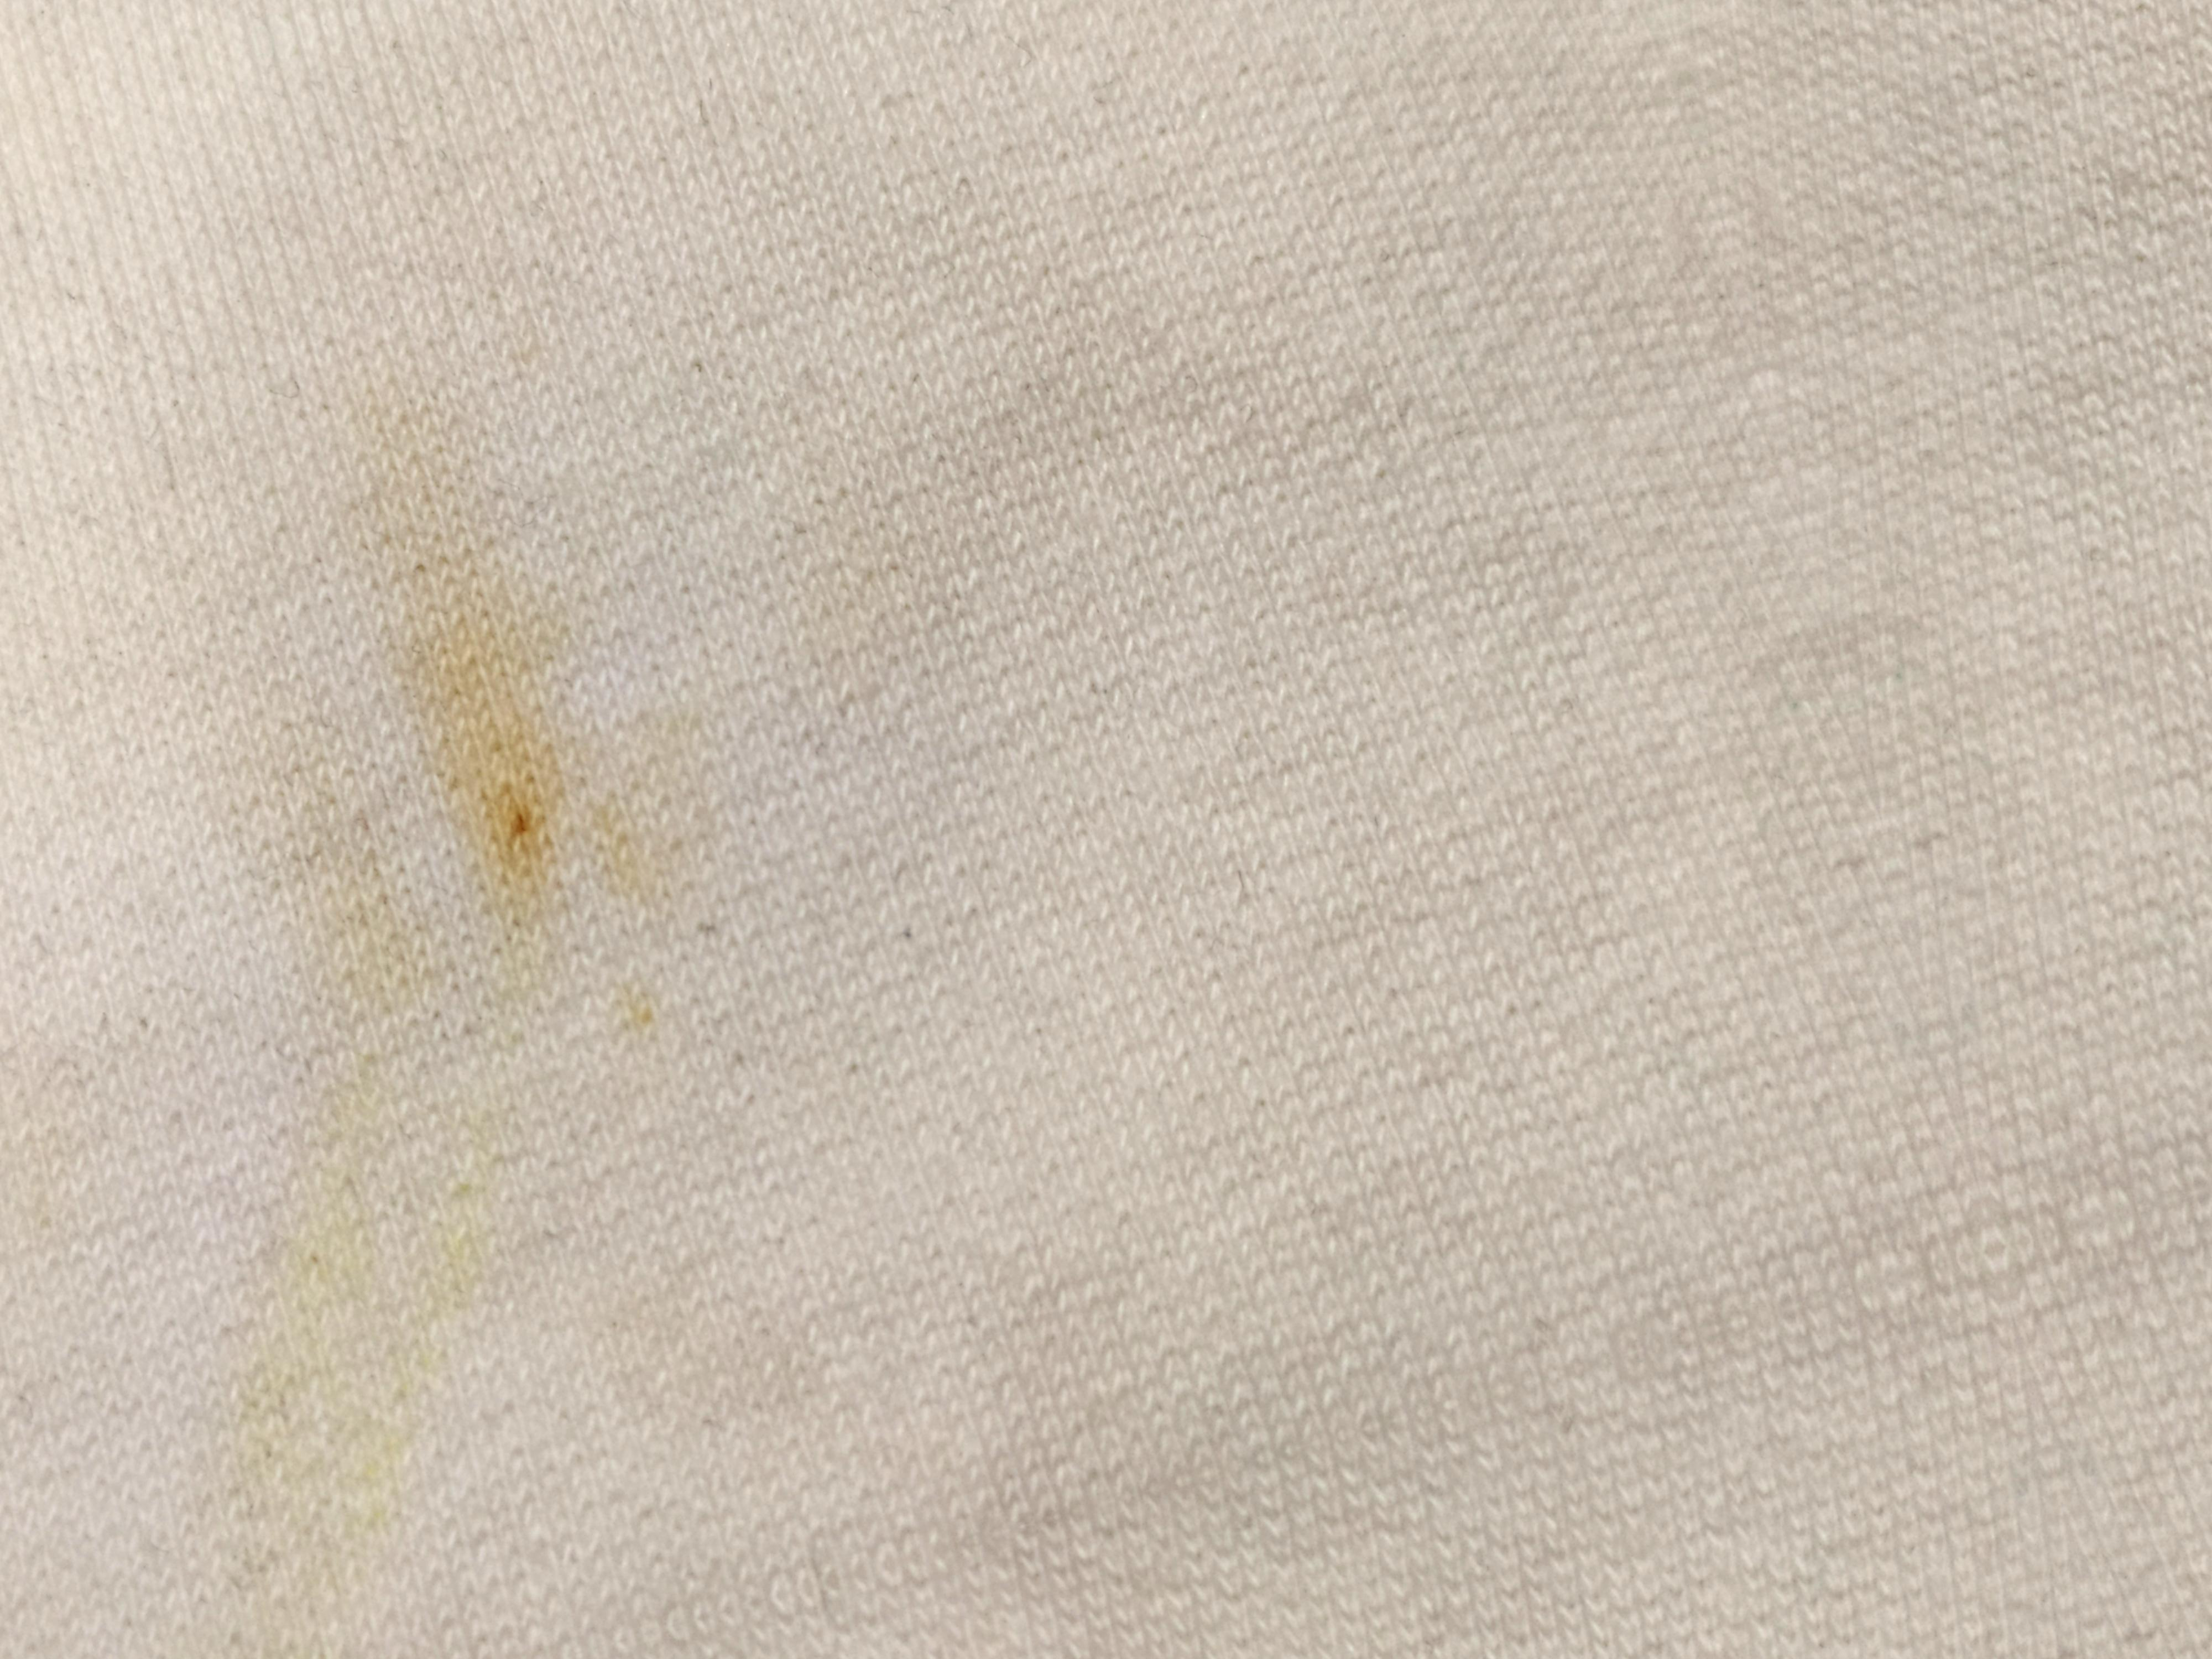stain: (401, 549, 589, 936)
